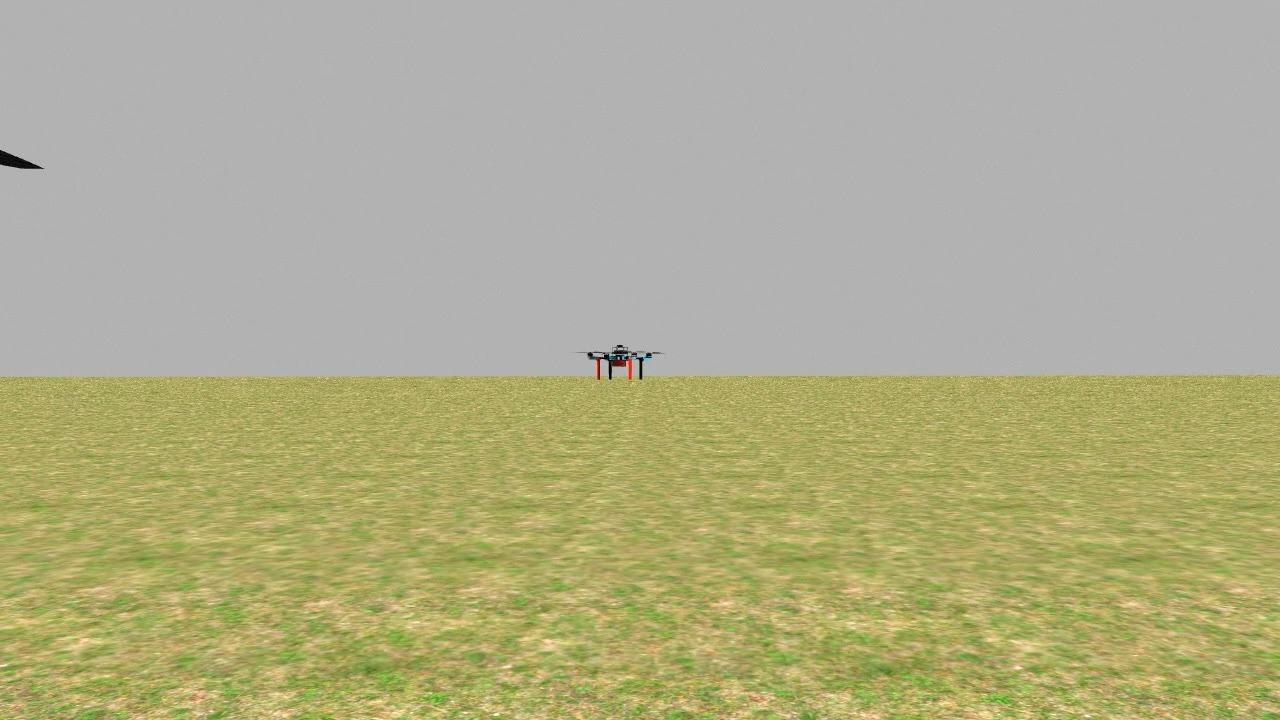UAV: (571, 335, 653, 389)
